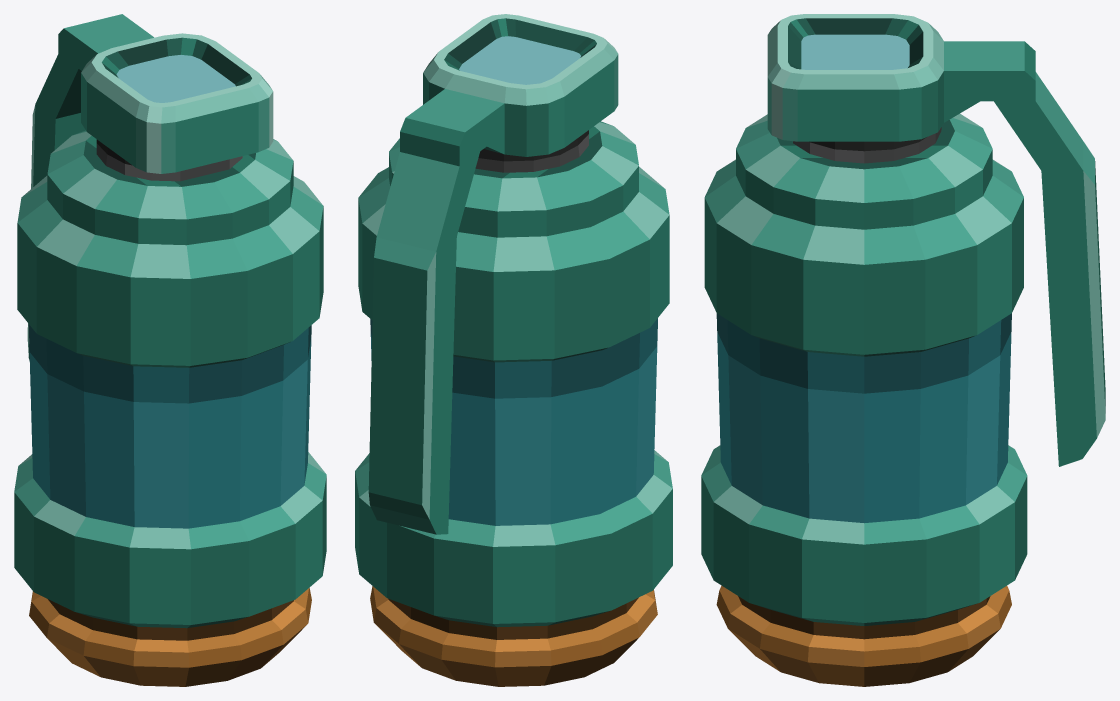
Rendered from Cosmic_Retro_Grenades_Pack_11.fbx.
3 views of the same model, side by side, from view 1: azimuth 30°, elevation 25°; view 2: azimuth 150°, elevation 25°; view 3: azimuth 270°, elevation 25° (orthographic). The views are drawn at different scales.
Visible parts, largest first — view 1: Cosmic_Retro_Grenades_Pack_11; view 2: Cosmic_Retro_Grenades_Pack_11; view 3: Cosmic_Retro_Grenades_Pack_11.
Part boxes in pixels (bbox=[...]): Cosmic_Retro_Grenades_Pack_11: bbox=[14, 14, 326, 686]; Cosmic_Retro_Grenades_Pack_11: bbox=[355, 14, 672, 686]; Cosmic_Retro_Grenades_Pack_11: bbox=[701, 14, 1105, 686].
Bounding box in the file's own units: 0.1493 × 0.2993 × 0.1851.
